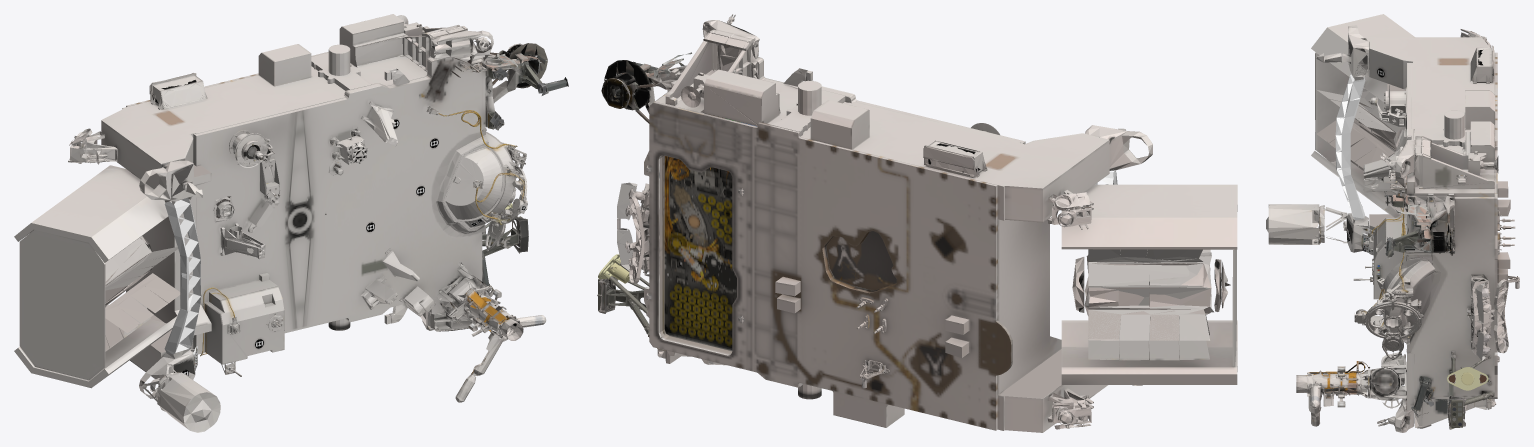
The model's file is chassis.obj.
3 views of the same model, side by side, from view 1: azimuth 30°, elevation 25°; view 2: azimuth 150°, elevation 25°; view 3: azimuth 270°, elevation 25° (orthographic). The views are drawn at different scales.
Size of the model in its own units: 3.02 by 1.68 by 1.29.
Materials: 1 (1 with a texture image).
